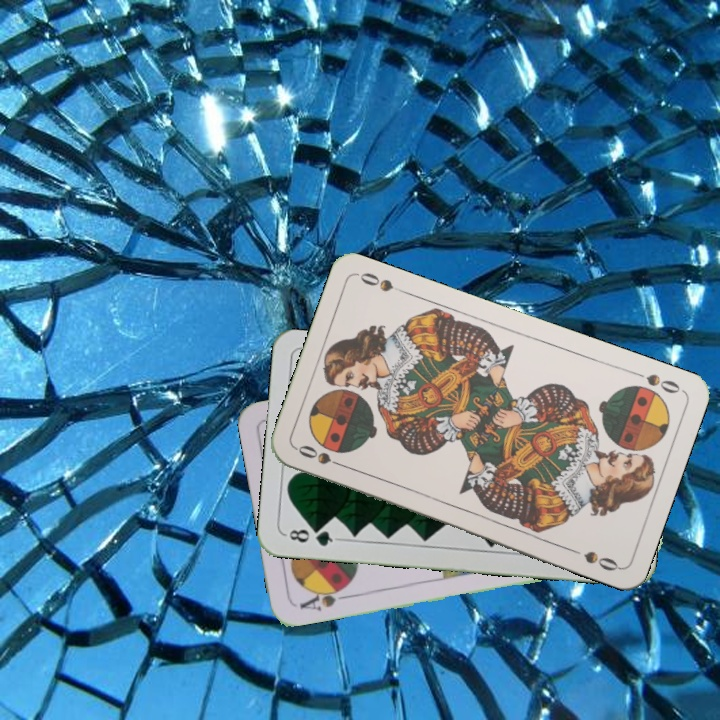G8: (282, 524, 341, 549)
SA: (296, 582, 353, 614)
SO: (293, 441, 350, 471), (628, 367, 683, 396)
